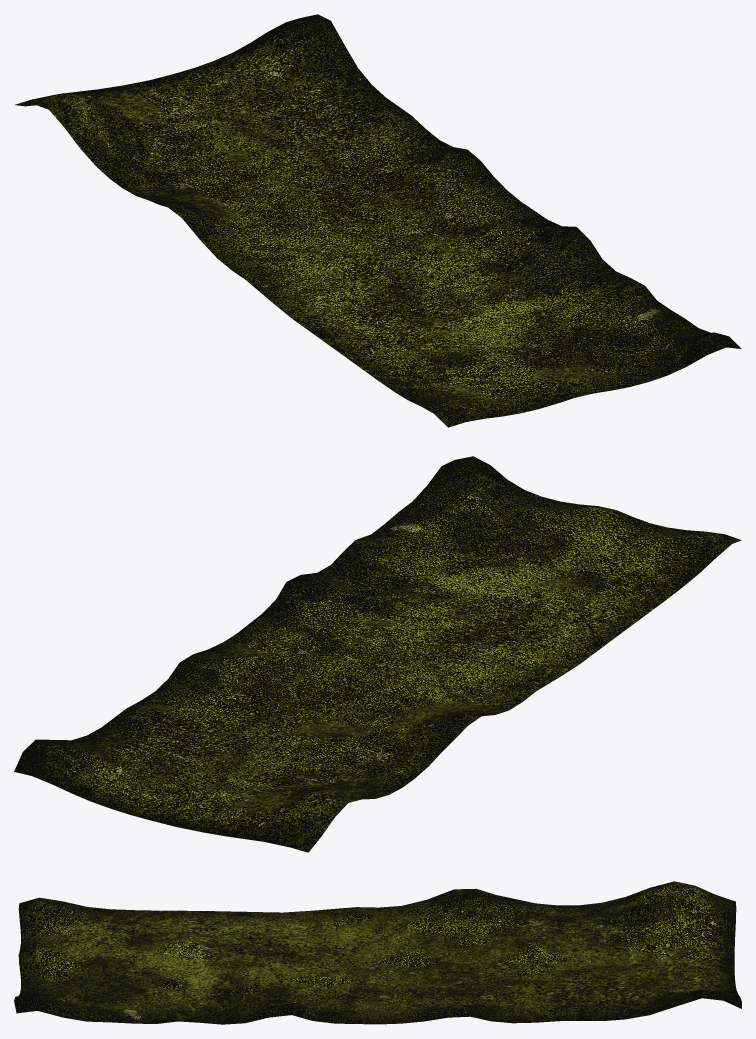
File: mansion5-moss.glb
The picture shows the model from 3 angles, top to bottom: view 1: azimuth 30°, elevation 25°; view 2: azimuth 150°, elevation 25°; view 3: azimuth 270°, elevation 25°; orthographic projection. The views are drawn at different scales.
Parts seen in each view (by area): view 1: moss-col; view 2: moss-col; view 3: moss-col.
Part boxes in pixels (x1,y1,x2,y2): moss-col: (15,14,741,427); moss-col: (14,456,741,852); moss-col: (14,881,741,1024).
Size of the model in its own units: 5.92 by 0.789 by 15.1.
Materials: 1 (1 with a texture image).
